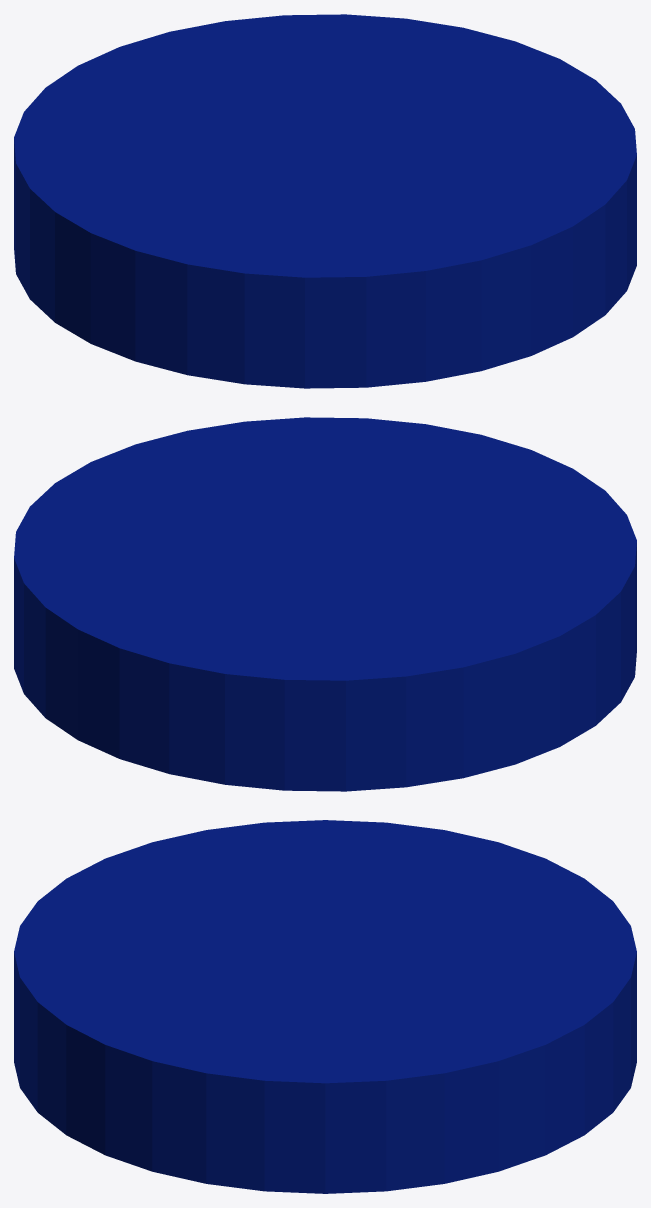
The model's file is bluechip_fixed.fbx.
The picture shows the model from 3 angles, top to bottom: view 1: azimuth 30°, elevation 25°; view 2: azimuth 150°, elevation 25°; view 3: azimuth 270°, elevation 25°; orthographic projection.
Parts seen in each view (by area): view 1: Cylinder; view 2: Cylinder; view 3: Cylinder.
Boxes of the visible parts, bbox=[...] form: Cylinder: bbox=[14, 14, 636, 388]; Cylinder: bbox=[14, 417, 636, 791]; Cylinder: bbox=[14, 820, 636, 1193].
Size of the model in its own units: 147 by 28.72 by 147.
